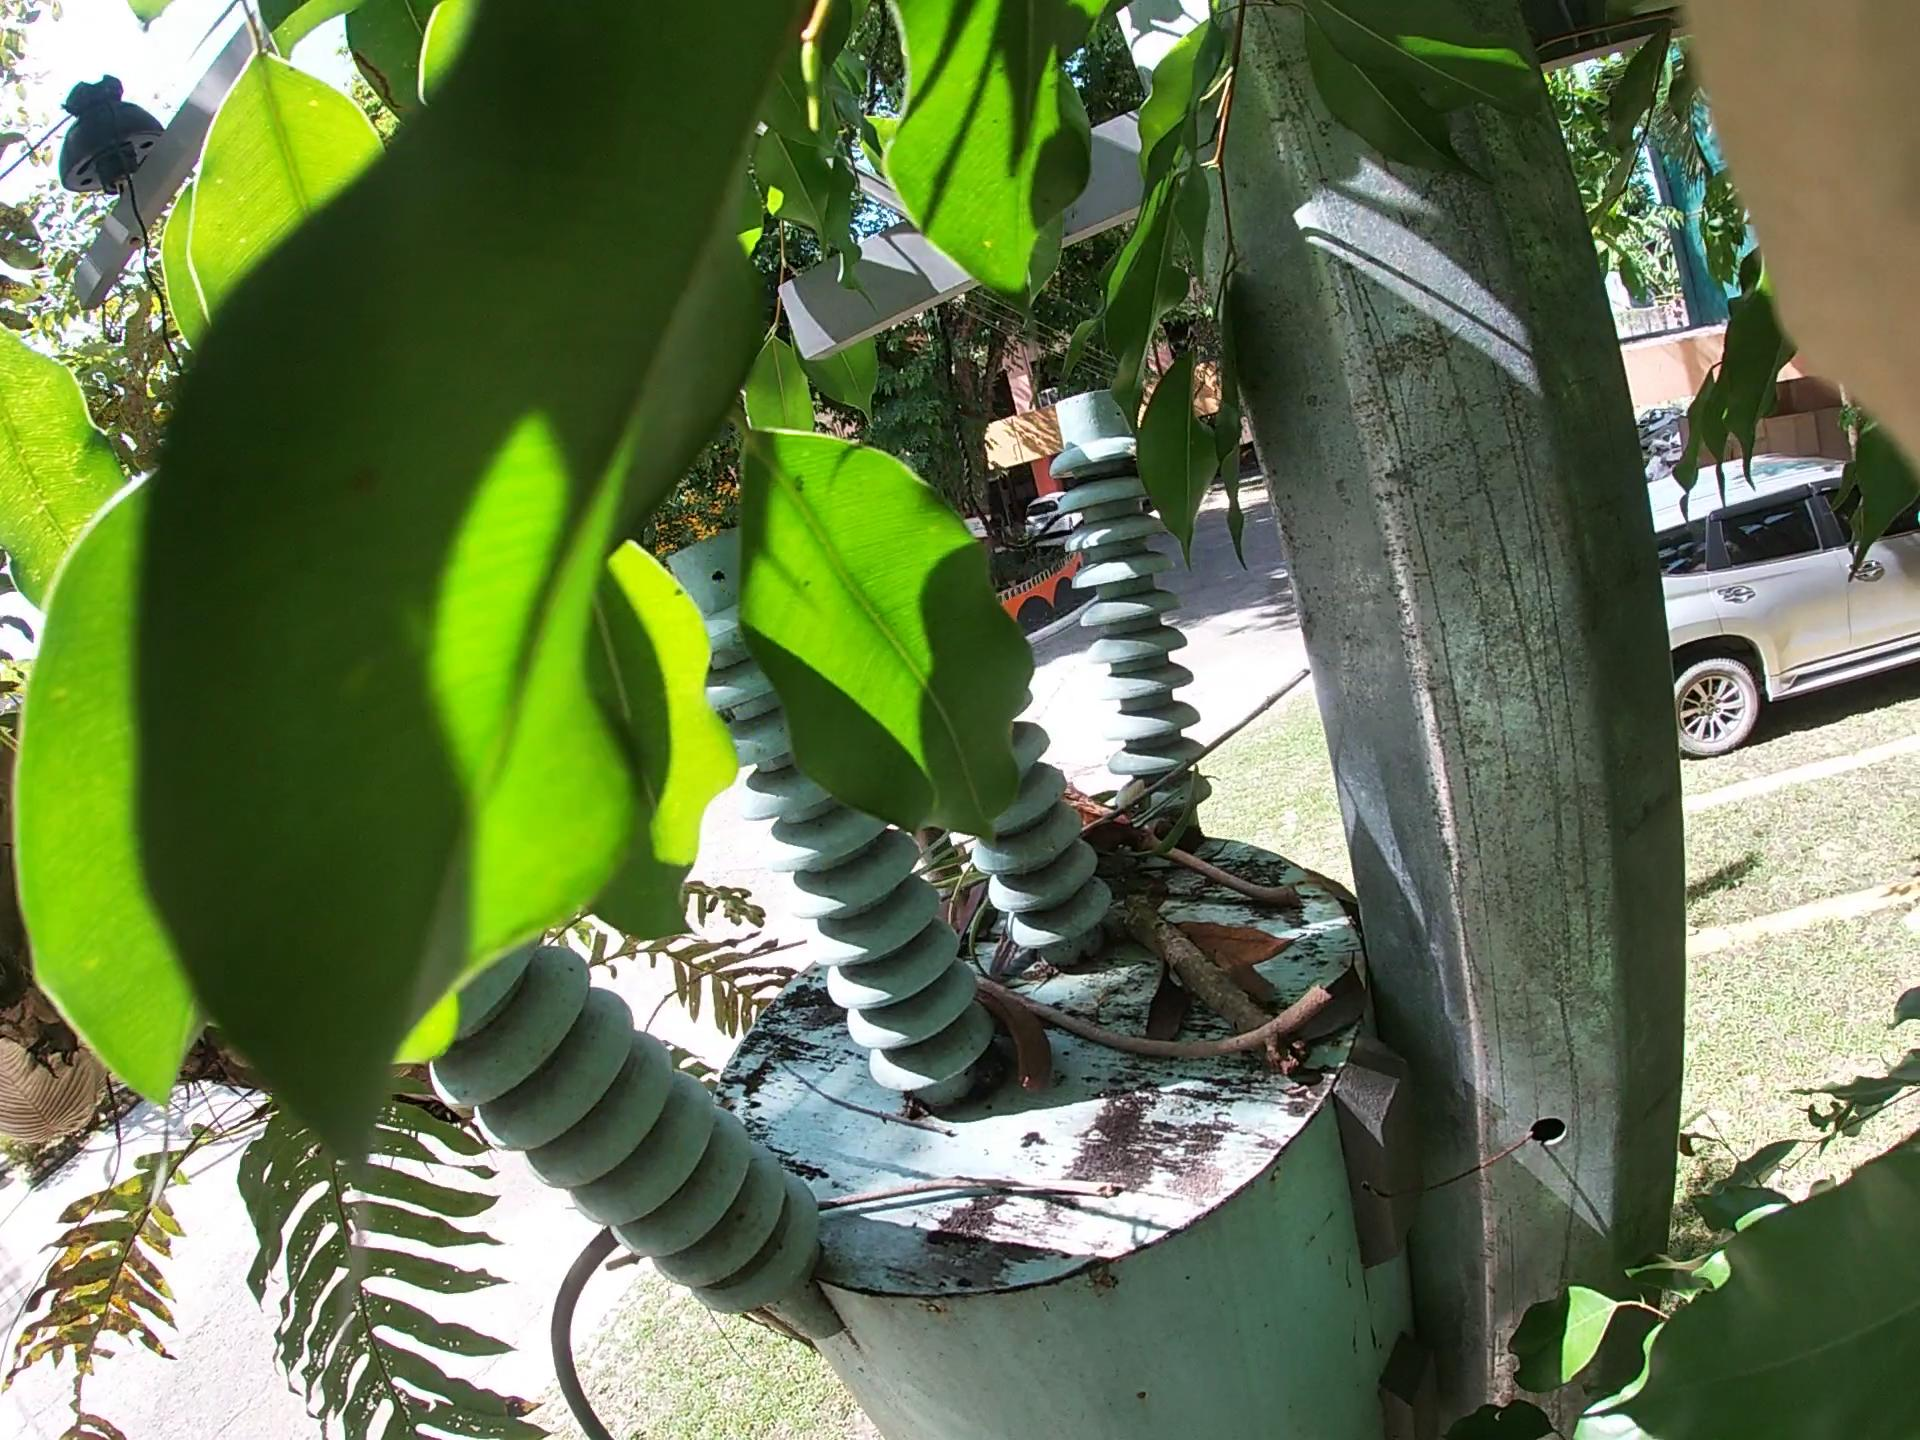leaf: (1063, 886, 1346, 1060)
tree branch: (454, 681, 1228, 1175), (980, 911, 1423, 1119), (1010, 756, 1293, 1072), (508, 1203, 1299, 1290), (1051, 755, 1361, 923)
